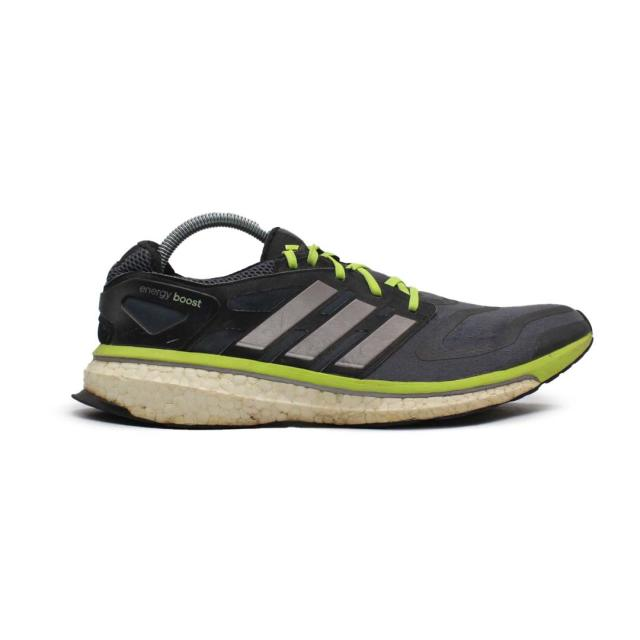heel: (93, 239, 172, 349)
midsole: (69, 331, 593, 430)
uppersole: (135, 228, 592, 379)
